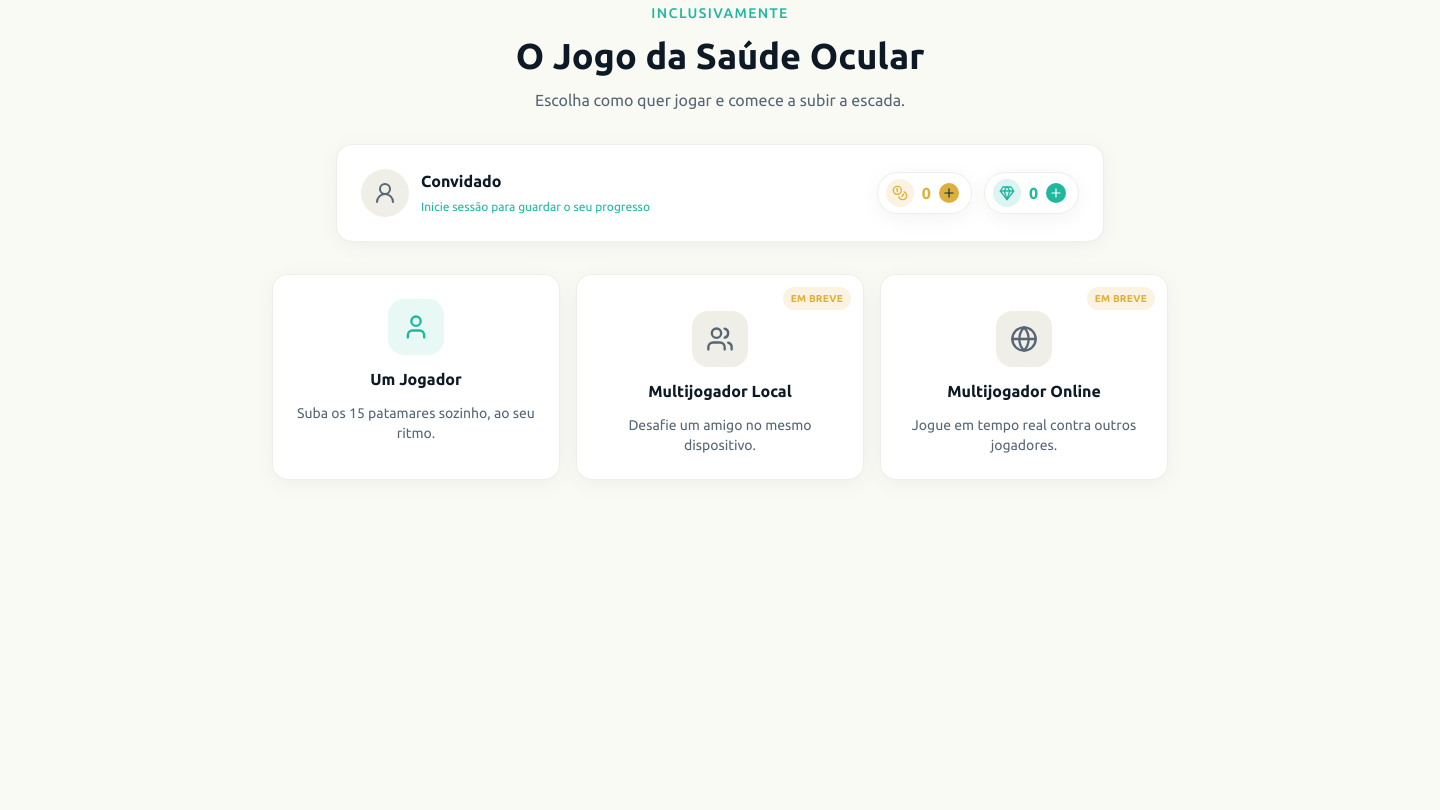
Test: MenuJogo (Lobby) › clicar em 'Multijogador Online' abre o modal a explicar que está em desenvolvimento
Click the button "Multijogador Online". click: x=1121, y=298
box: [880,274,1168,480]
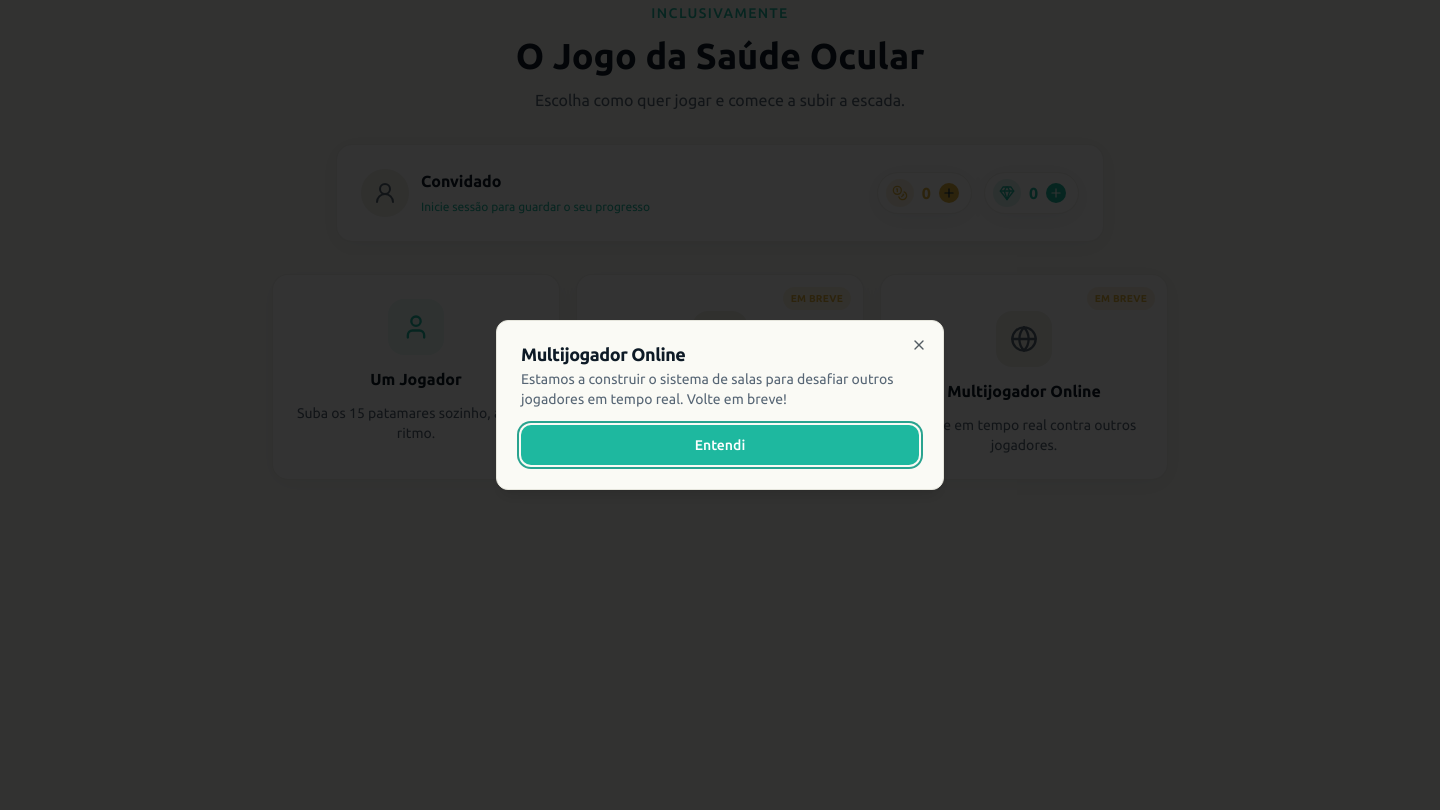
Expected: the text "sistema de salas" is shown, [521,371,893,407]
Click the button "Entendi". click: x=720, y=445
box: [521,425,919,465]
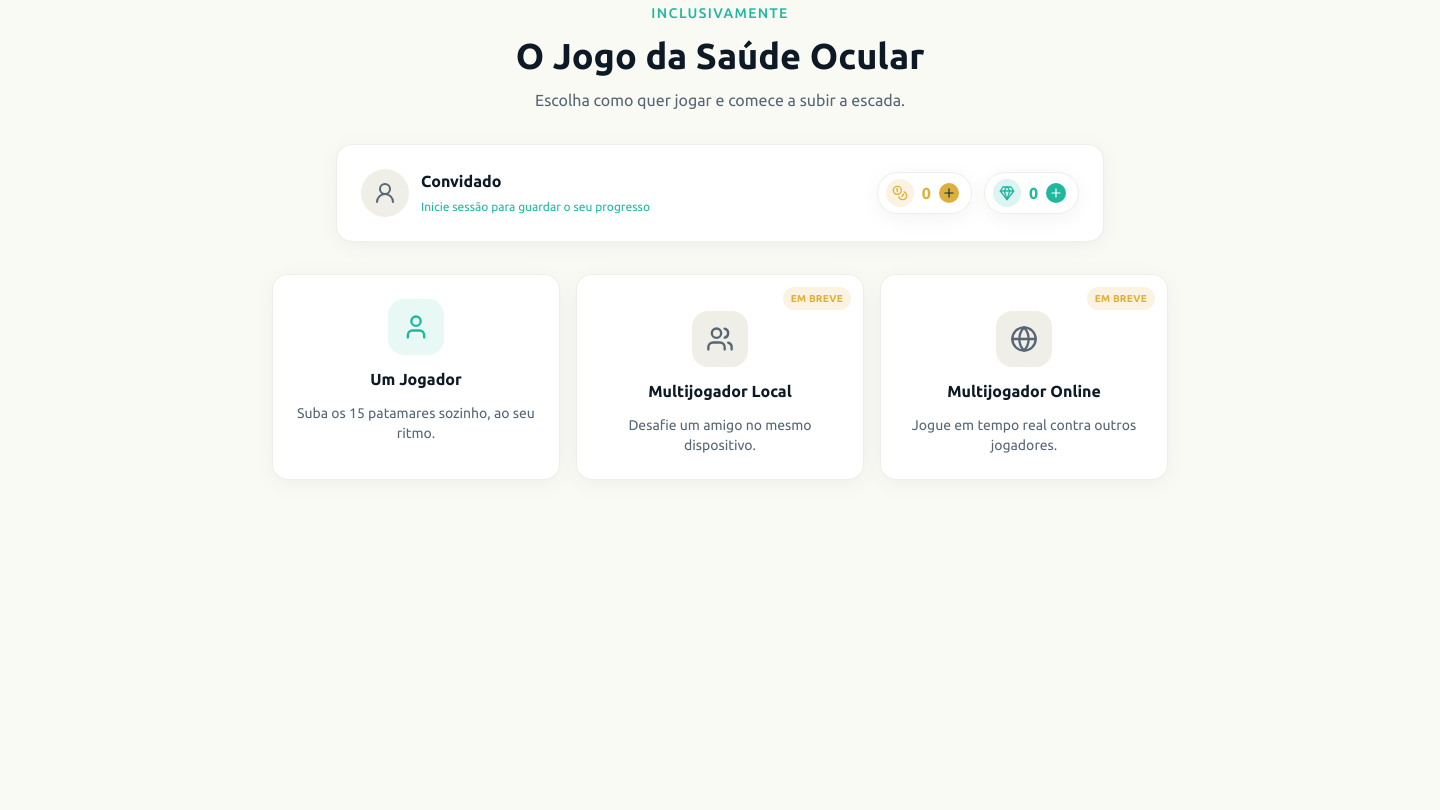
Expected: the text "sistema de salas" is gone
